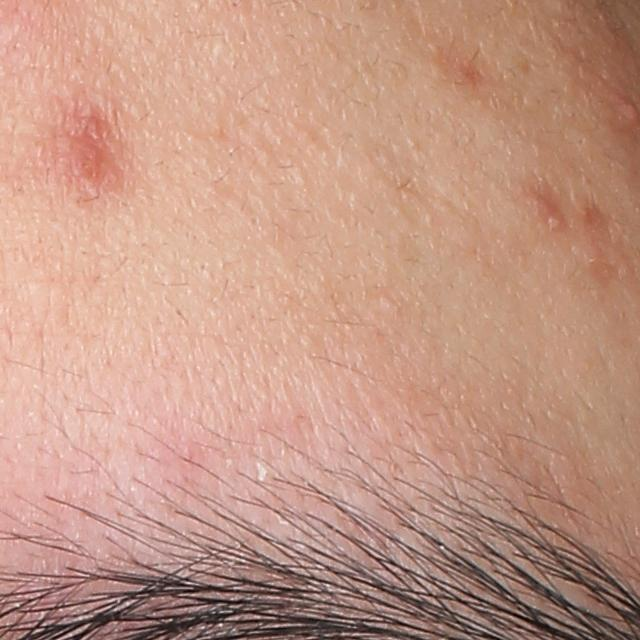papule: (52, 125, 118, 195), (523, 187, 568, 229)
